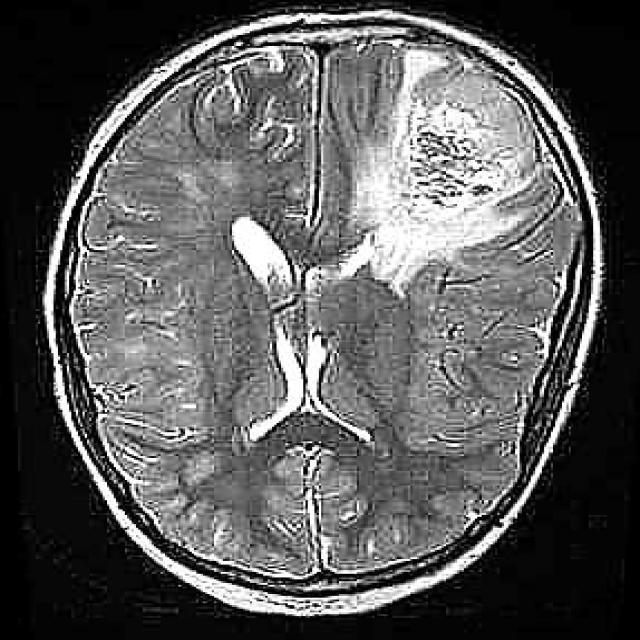Tumor: (370, 33, 542, 297)
